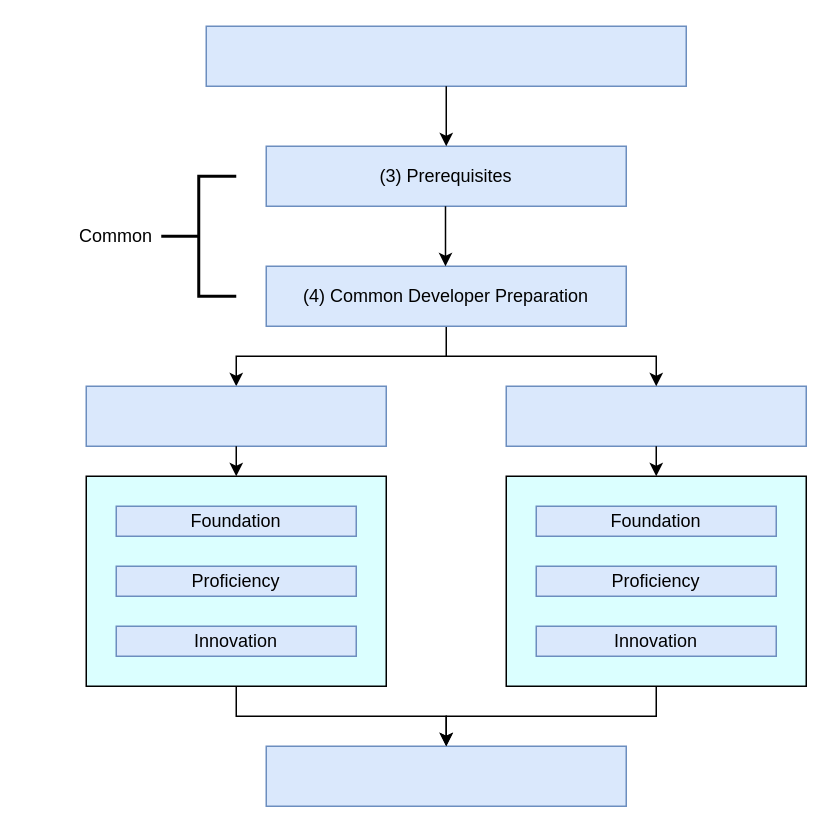
This 833x833 diagram has some shape labels left out. Here are the shapes that lost their labels. From the top down, the centre of each, then its label:
the point at 445,55: Developer Guide
the point at 235,415: (5) Application Developer
the point at 655,415: (6) Platform Developer
the point at 445,775: (7) Appendix (misc examples)
